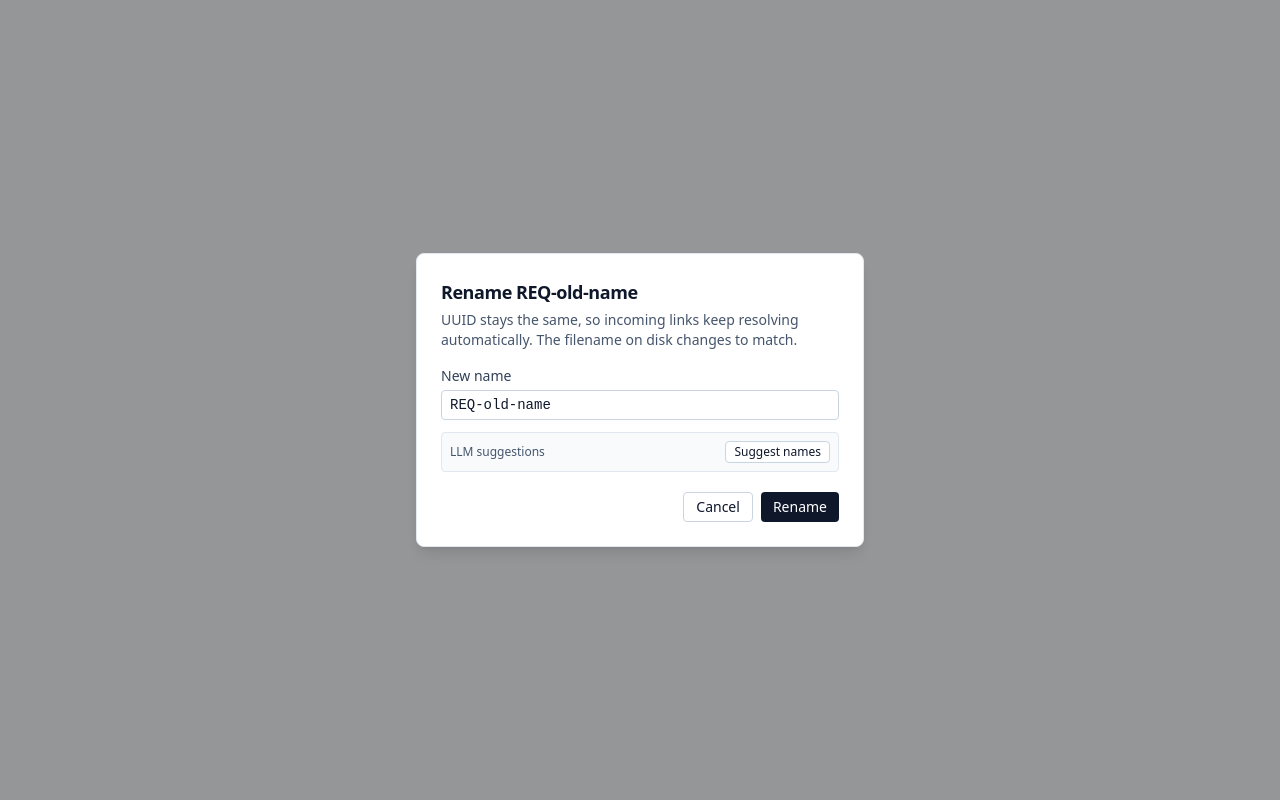
Test case: RenameArtifactDialog › picks a suggestion into the text field
The width and height of the screenshot is (1280, 800).
Click the button with test id "rename-suggest-button": (778,452) [725, 441, 830, 463]
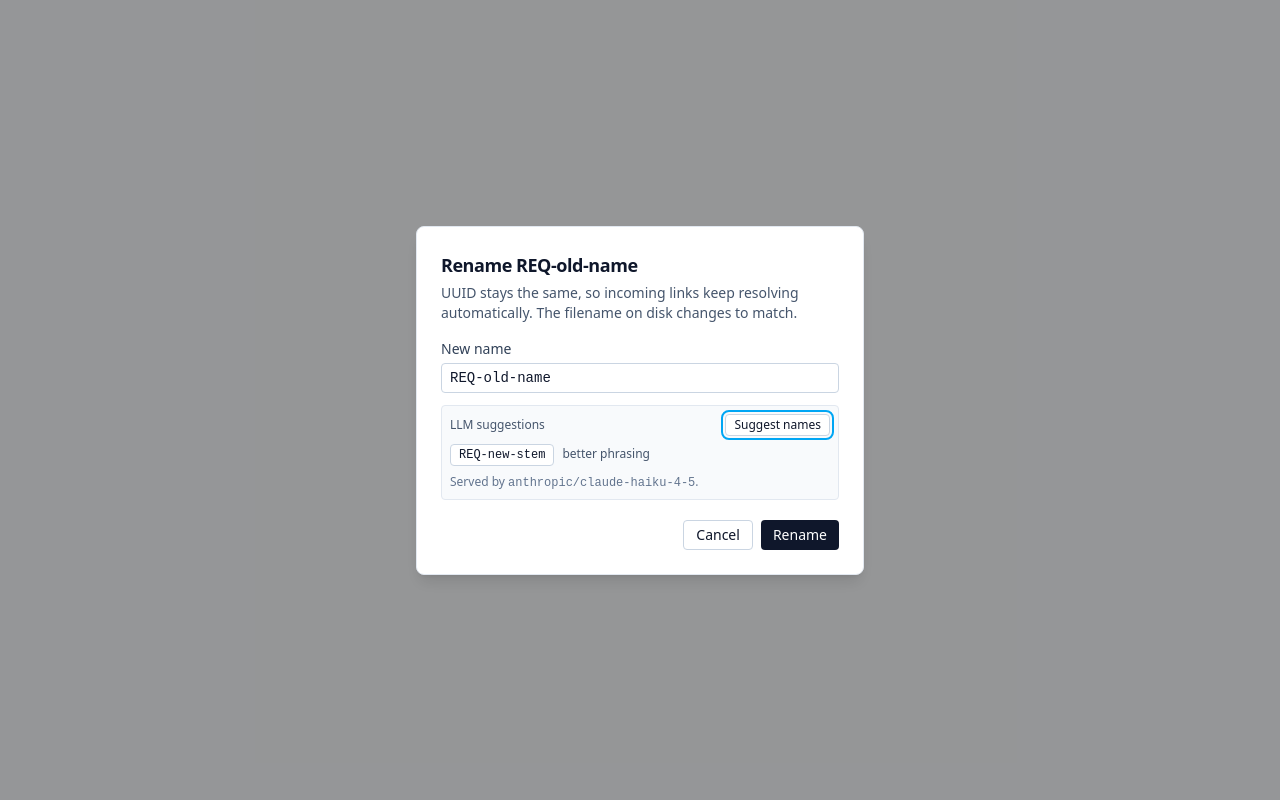
Click the button with test id "rename-suggest-pick-REQ-new-stem": (502,454) [450, 444, 554, 466]
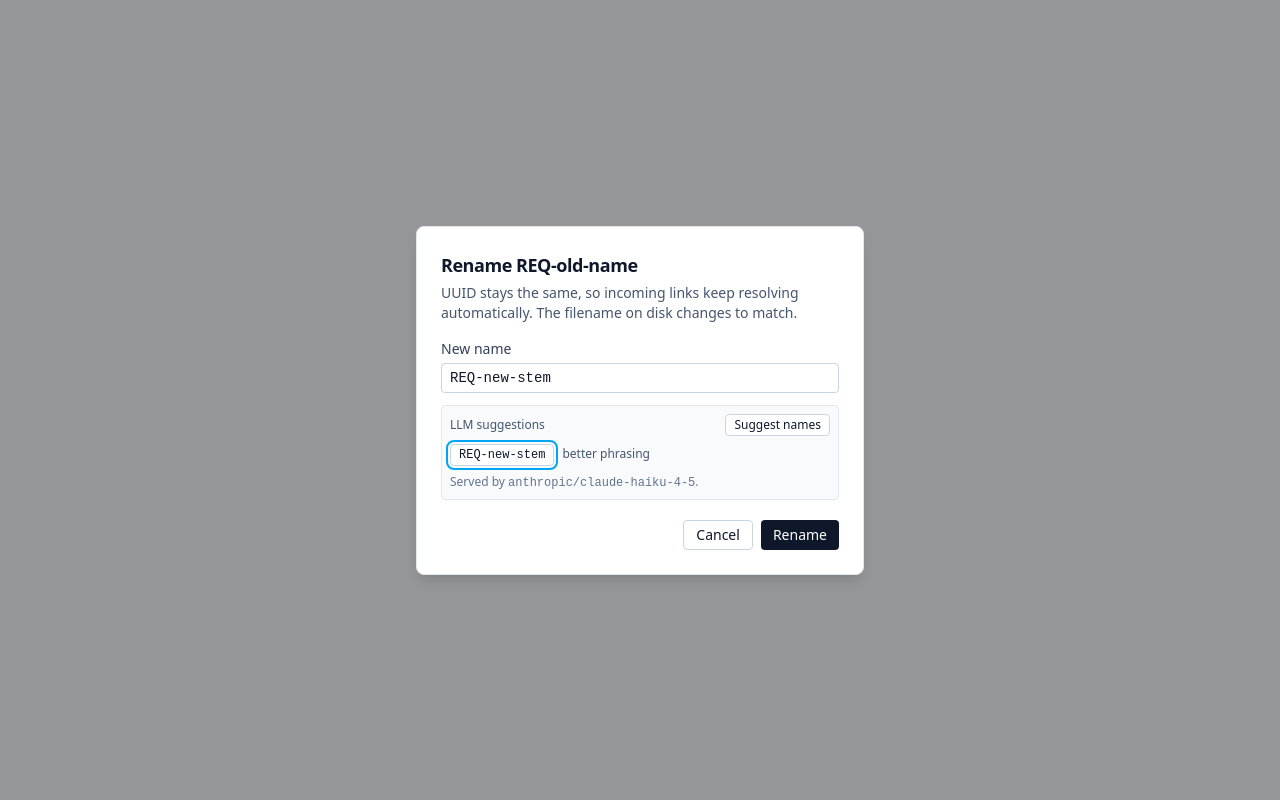
Now the field holds "REQ-new-stem", box [441, 362, 839, 392]
